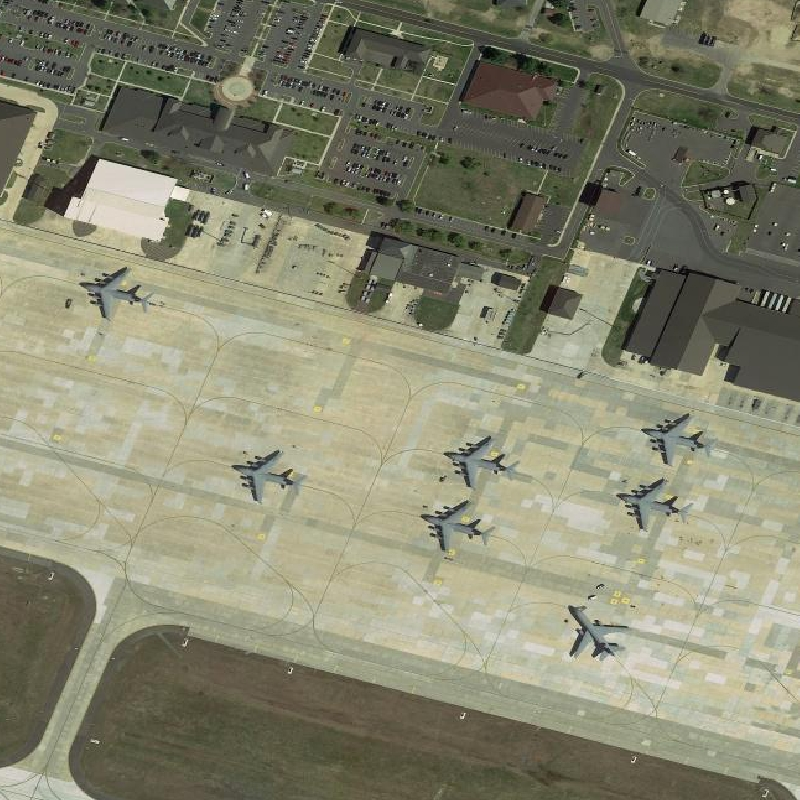A18: (561, 601, 632, 663)
A3: (442, 432, 524, 495), (635, 409, 719, 470), (75, 263, 157, 323), (225, 448, 310, 505), (415, 497, 497, 556), (615, 477, 698, 535)
